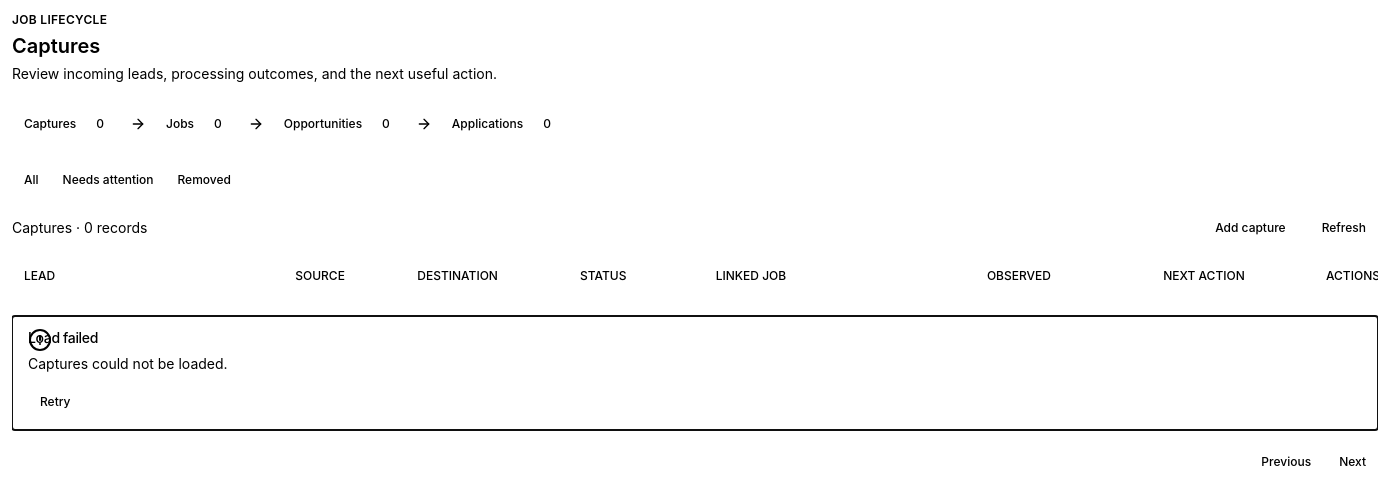
it: A308-3: Action Queue mode calls client.actionQueue.list › shows reasons and next actions in queue rows
The width and height of the screenshot is (1390, 483).
What coordinates should you click on to do the following:
click the button "Applications 0"
I would click on:
 (504, 124)
Its box is [440,108,569,140].
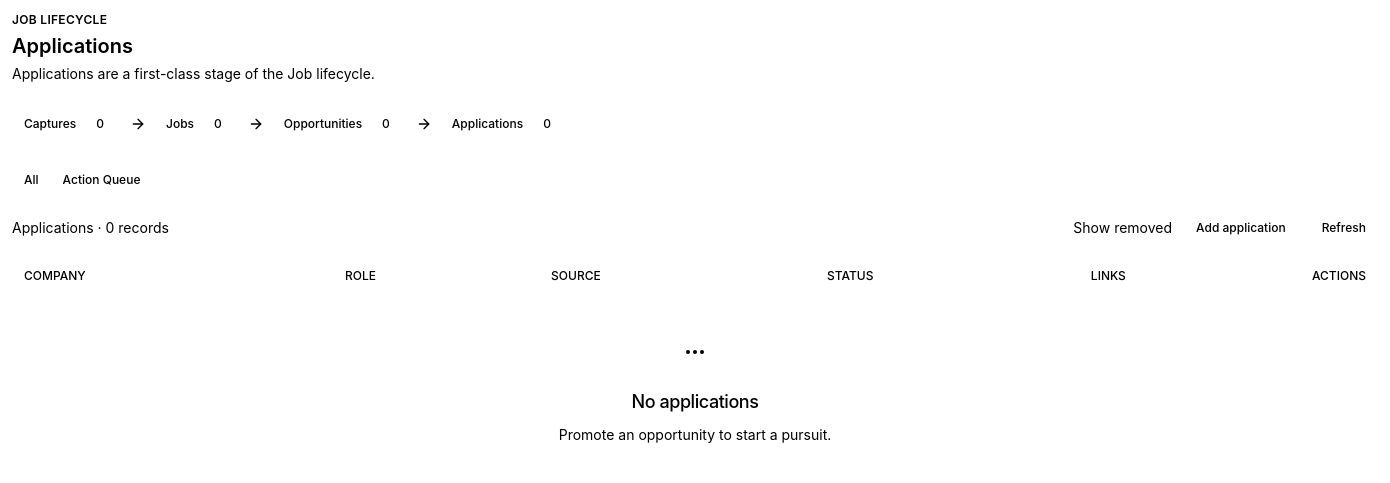
What coordinates should you click on to do the following:
click the radio button labelled "Action Queue"
I would click on:
 (102, 180)
Its box is [51,164,152,196].
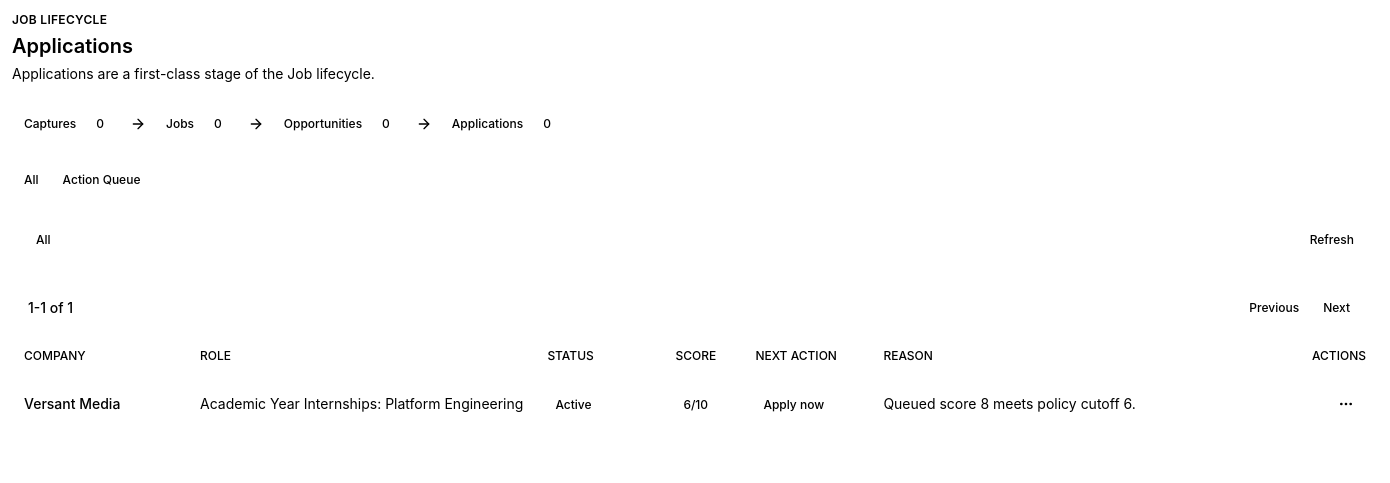
Check: the text "Queued score 8 meets policy cutoff 6." is shown, box [883,395,1136,412]
Check: the text "Apply now" is shown, box [763,396,824,412]
